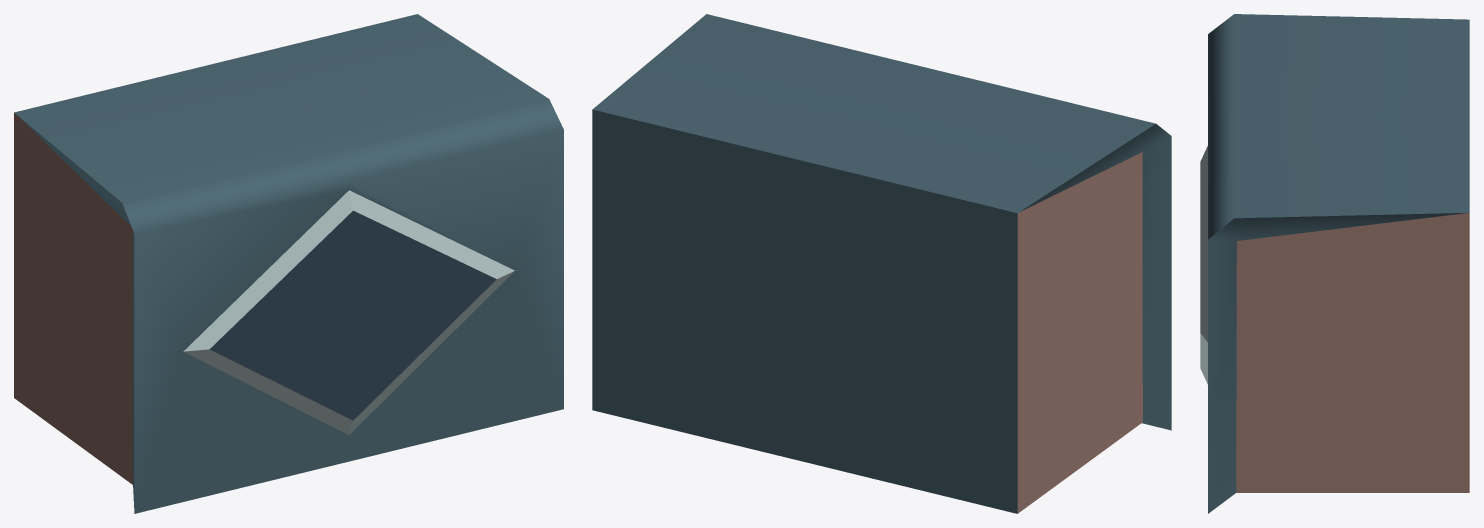
Rendered from Bag.fbx.
The picture shows the model from 3 angles, left to right: view 1: azimuth 30°, elevation 25°; view 2: azimuth 150°, elevation 25°; view 3: azimuth 270°, elevation 25°; orthographic projection. The views are drawn at different scales.
Parts seen in each view (by area): view 1: Bag_mesh; view 2: Bag_mesh; view 3: Bag_mesh.
Part boxes in pixels (x1,y1,x2,y2): Bag_mesh: (14,14,563,513); Bag_mesh: (592,14,1171,513); Bag_mesh: (1200,14,1469,513).
Bounding box in the file's own units: 15.38 × 10.29 × 8.52.
